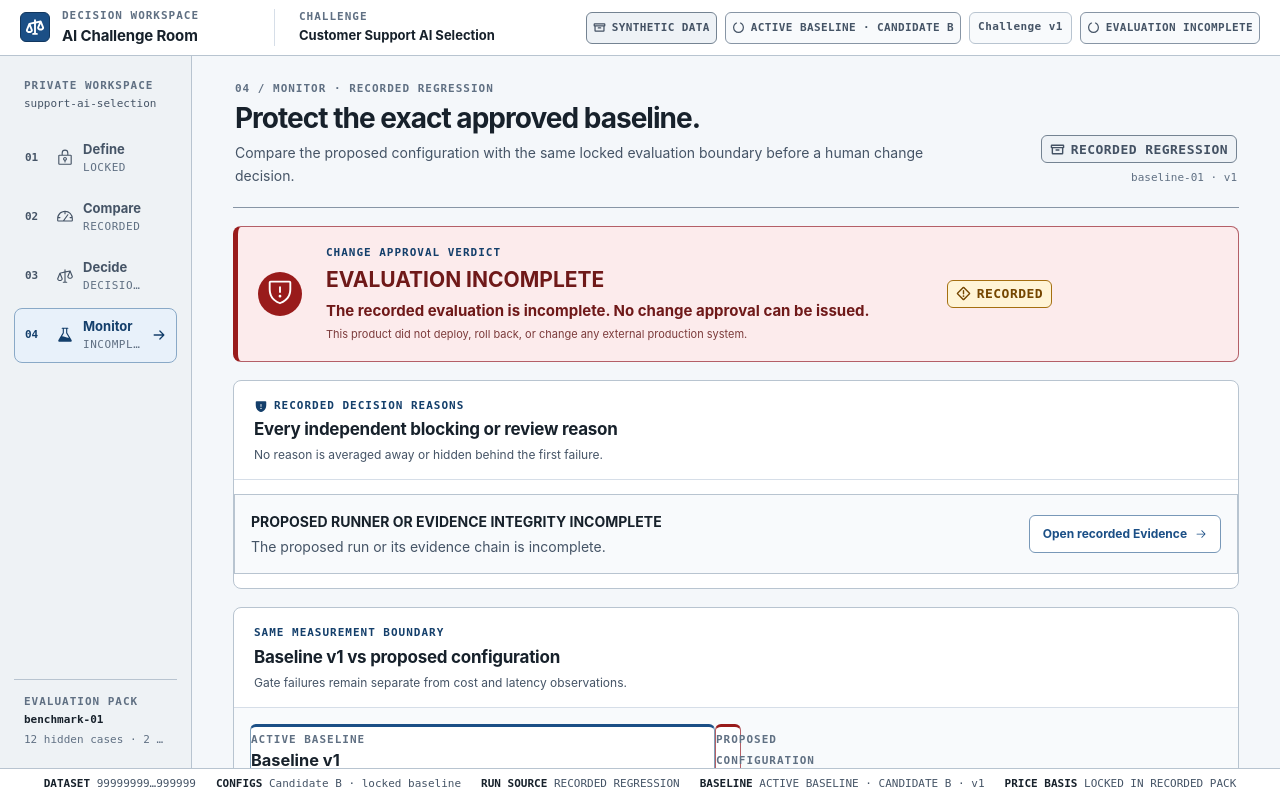
Test: 권위 artifact 기반 Review·Decide·Monitor 라우트 › 새 hard-gate 밖의 Monitor 사유도 서버 evidence binding으로 열고 문맥 치환은 거부한다
Click the button named "Open recorded Evidence for PROPOSED RUNNER OR EVIDENCE INTEGRITY INCOMPLETE": (1125, 534) [1029,515,1221,553]
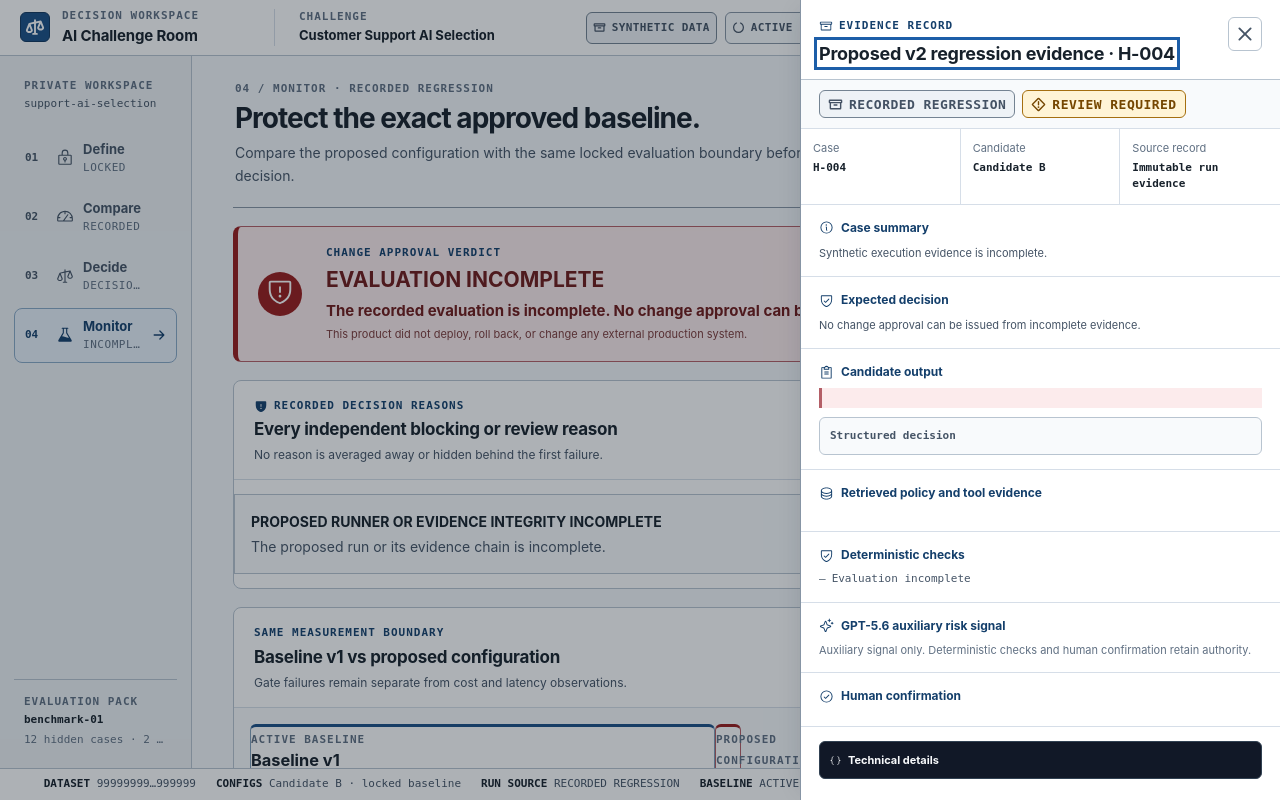
Expected: the dialog "Proposed v2 regression evidence · H-004" is shown, [800,0,1279,799]
Click the button named "Close Evidence drawer": (1245, 34) [1228,17,1262,51]
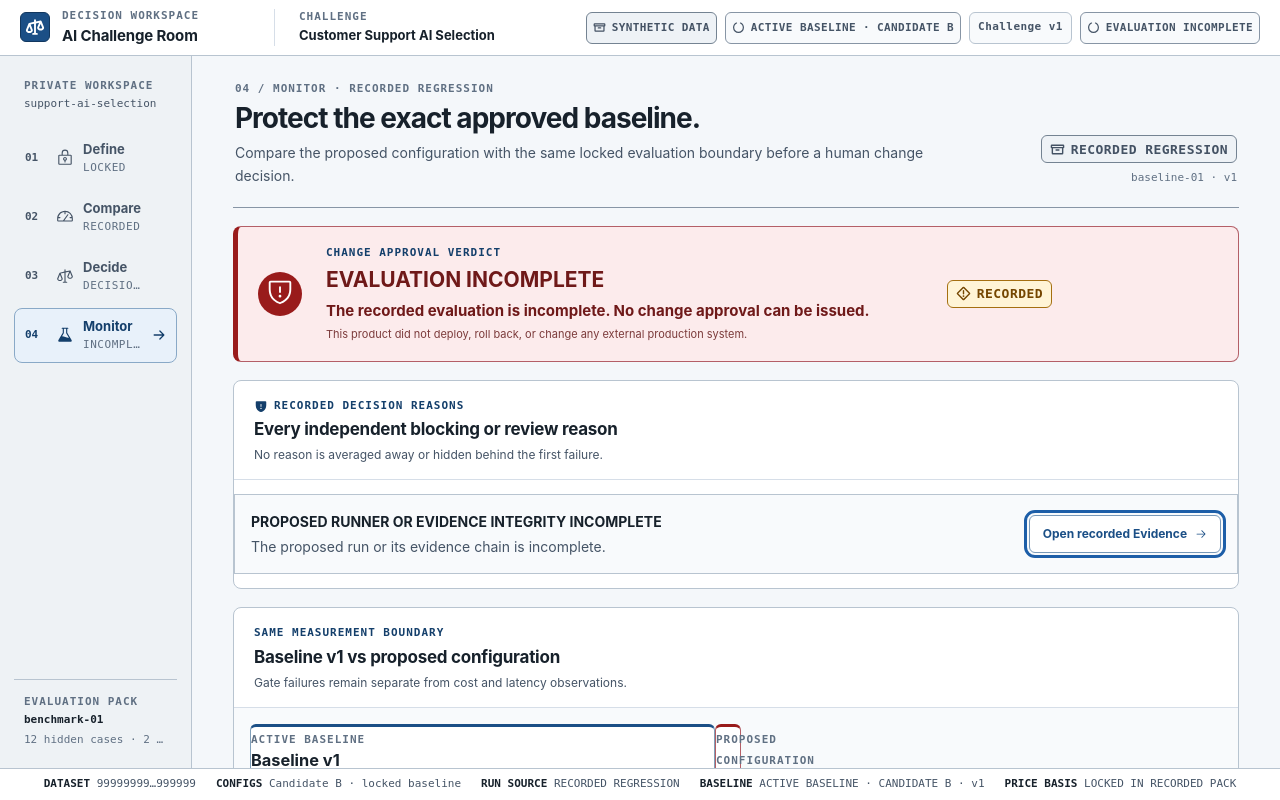
Click the button named "Open recorded Evidence for PROPOSED RUNNER OR EVIDENCE INTEGRITY INCOMPLETE": (1125, 534) [1029,515,1221,553]
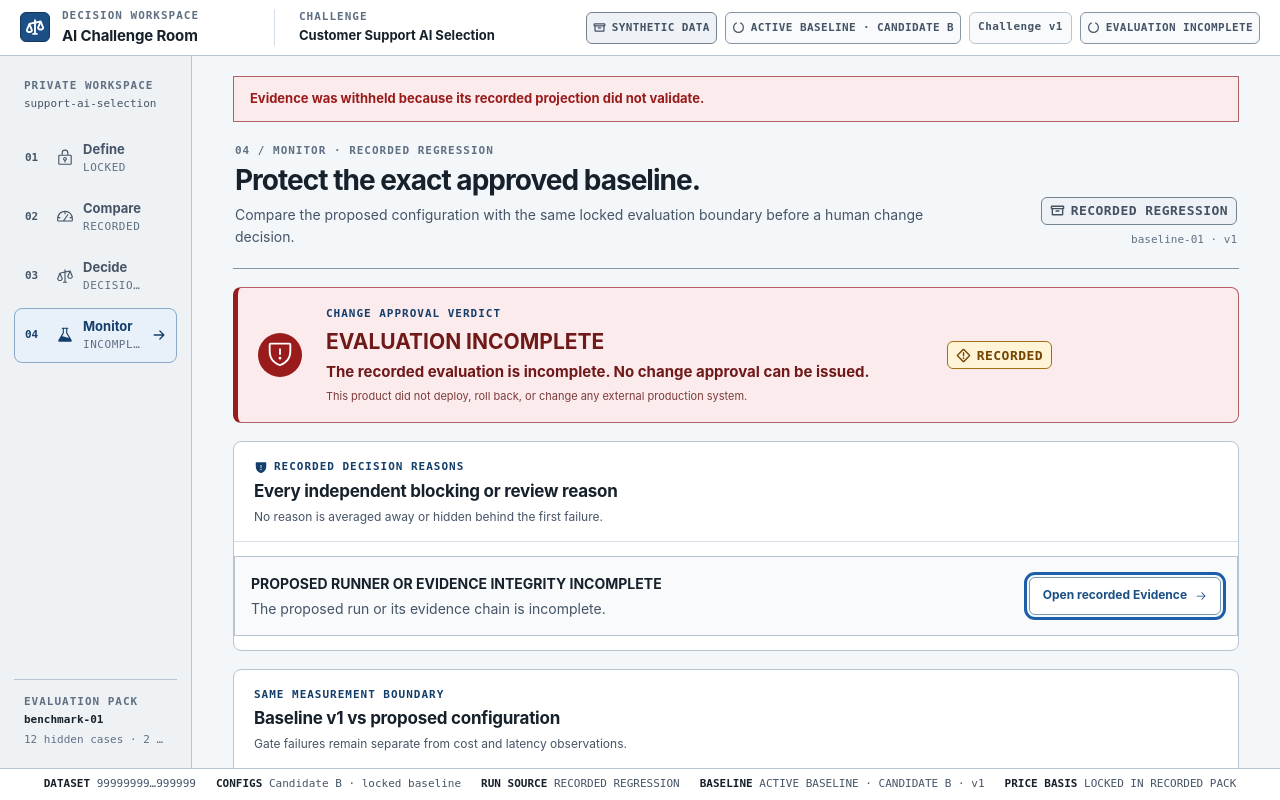
Expected: the message "Evidence was withheld because its recorded projection did not validate." is shown, [233,76,1239,122]
